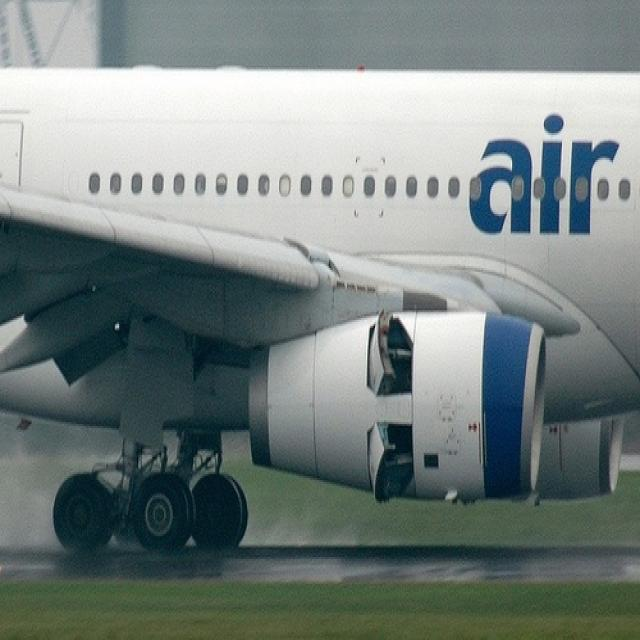aeroplane: (1, 58, 639, 555)
